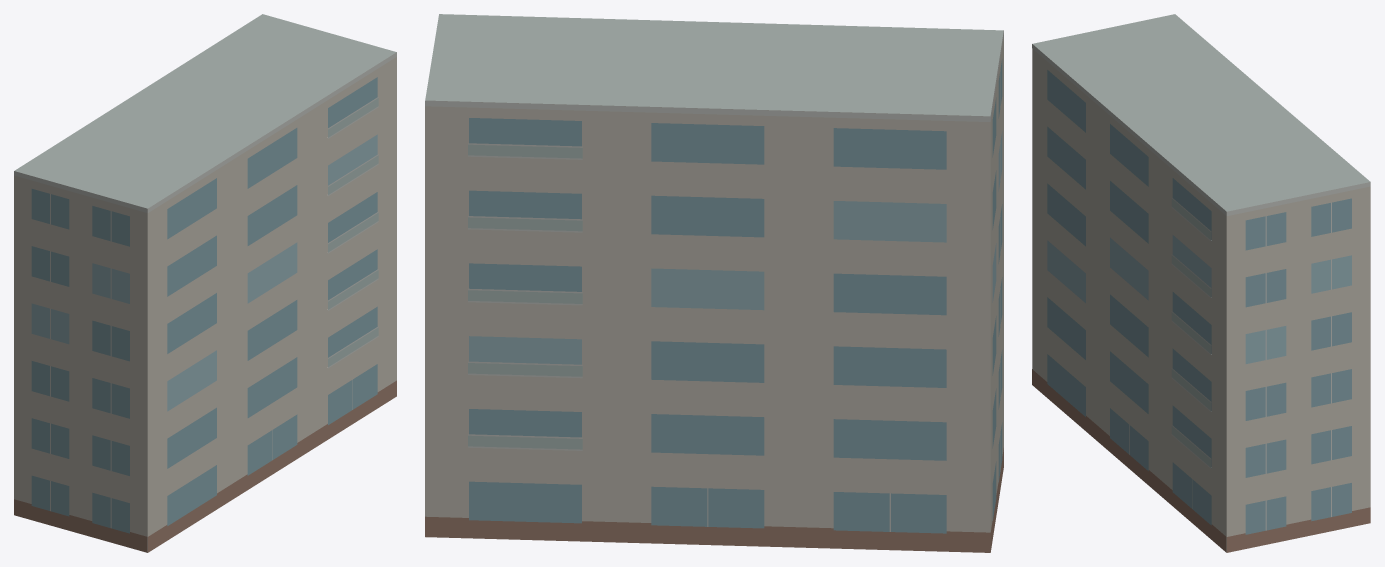
File: survey-upis-32697626.glb
3 renders of one model, left to right at view 1: azimuth 30°, elevation 25°; view 2: azimuth 150°, elevation 25°; view 3: azimuth 270°, elevation 25°, orthographic. The views are drawn at different scales.
Visible parts, largest first — view 1: survey-upis-32697626.tmp; view 2: survey-upis-32697626.tmp; view 3: survey-upis-32697626.tmp.
Part boxes in pixels (left/top/right/bottom): survey-upis-32697626.tmp: left=14, top=14, right=396, bottom=552; survey-upis-32697626.tmp: left=425, top=14, right=1003, bottom=552; survey-upis-32697626.tmp: left=1032, top=14, right=1370, bottom=552.
Bounding box in the file's own units: 22.75 × 18.3 × 16.46.
